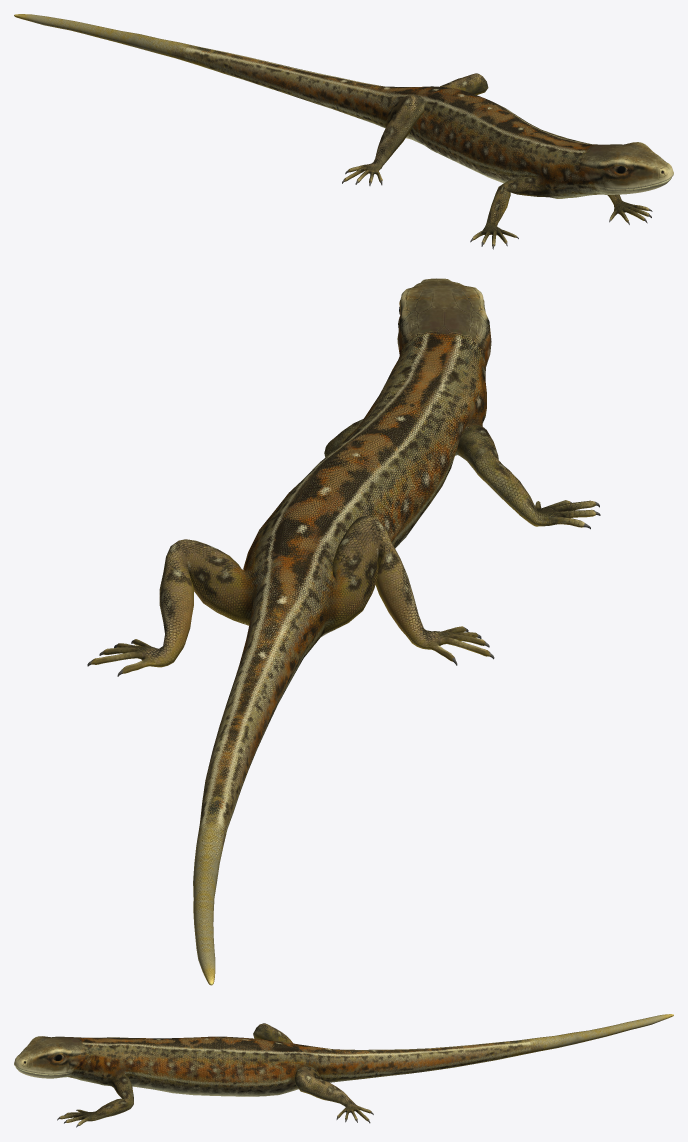
Rendered from Running306.obj.
The picture shows the model from 3 angles, top to bottom: view 1: azimuth 30°, elevation 25°; view 2: azimuth 150°, elevation 25°; view 3: azimuth 270°, elevation 25°; orthographic projection. The views are drawn at different scales.
Parts seen in each view (by area): view 1: Lizard; view 2: Lizard; view 3: Lizard.
Boxes of the visible parts, left/top/right/bottom form: Lizard: left=14, top=14, right=673, bottom=249; Lizard: left=87, top=278, right=600, bottom=985; Lizard: left=14, top=1014, right=673, bottom=1127.
Size of the model in its own units: 39.31 by 12.09 by 97.3.
